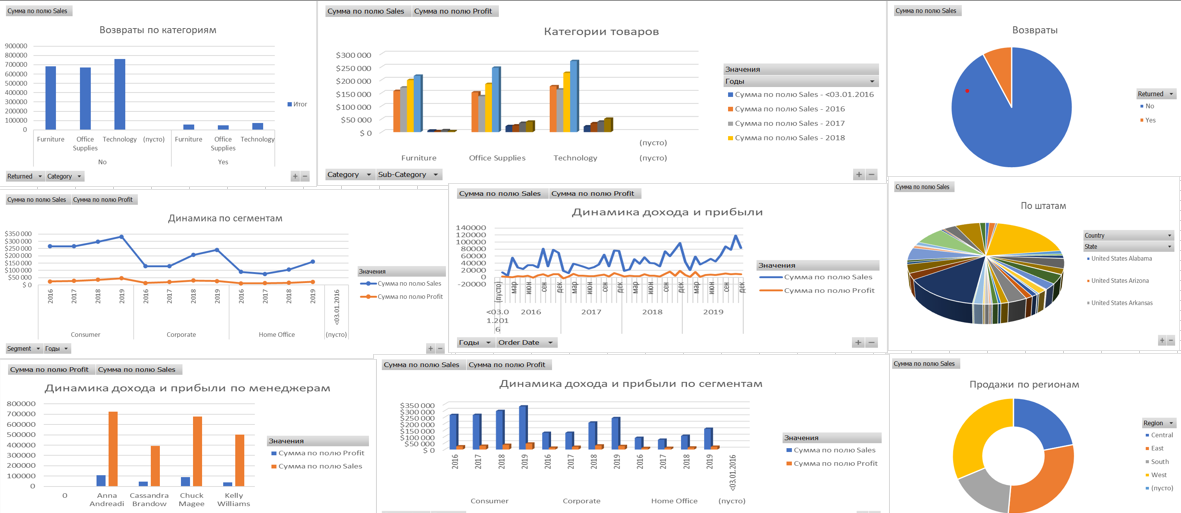

Layout of this report page (visuals, bound fields, positions):
{"tool":"tableau","page":{"name":"Dashboard 1","canvas":[1400,750],"ordinal":0},"visuals":[{"type":"worksheet","title":"Динамика продаж","mark":"Square","rows":["Sub-Category"],"cols":["Order Date"],"box":[8,8,611.9,327]},{"type":"worksheet","title":"Анализ по клиентам","mark":"Circle","rows":["Profit"],"cols":["Sales"],"box":[619.9,8,306,327]},{"type":"worksheet","title":"Анализ по продуктам","mark":"Circle","rows":["Profit"],"cols":["Sales"],"box":[925.9,8,306.1,327]},{"type":"legend","title":"Динамика продаж","param":"[federated.076mbva0qhmc8e1cwjwzp0z5prh7].[sum:Profit:qk]","box":[1232,8,160,65]},{"type":"legend","title":"Динамика дохода и прибыли по менеджерам","param":"[federated.076mbva0qhmc8e1cwjwzp0z5prh7].[:Measure Names]","box":[1232,73,160,66]},{"type":"legend","title":"Анализ по возратам","param":"[federated.076mbva0qhmc8e1cwjwzp0z5prh7].[none:Returned:nk]","box":[1232,139,160,66]},{"type":"filter","title":"Динамика по сегментам","param":"[federated.076mbva0qhmc8e1cwjwzp0z5prh7].[none:Segment:nk]","box":[1232,205,160,52]},{"type":"filter","title":"Динамика дохода и прибыли по менеджерам","param":"[federated.076mbva0qhmc8e1cwjwzp0z5prh7].[none:Person:nk]","box":[1232,257,160,52]},{"type":"filter","title":"Анализ по регионам","param":"[federated.076mbva0qhmc8e1cwjwzp0z5prh7].[none:Region:nk]","box":[1232,309,160,127]},{"type":"worksheet","title":"Анализ по категориям","mark":"Automatic","rows":["Sub-Category"],"cols":["Sales","Profit"],"box":[8,335,772.2,223.5]},{"type":"worksheet","title":"Прибыль по штатам","mark":"Automatic","box":[780.1,335,451.9,223.5]},{"type":"worksheet","title":"Анализ по регионам","mark":"Automatic","rows":["Region"],"cols":["Profit"],"box":[8,558.5,305.9,183.5]},{"type":"worksheet","title":"Динамика дохода и прибыли по менеджерам","mark":"Automatic","cols":["Person"],"box":[313.9,558.5,306,183.5]},{"type":"worksheet","title":"Анализ по возратам","mark":"Automatic","rows":["Sales"],"cols":["Category","Sub-Category"],"box":[619.9,558.5,306,183.5]},{"type":"worksheet","title":"Динамика по сегментам","mark":"Automatic","rows":["Segment"],"cols":["Profit"],"box":[925.9,558.5,306.1,183.5]}]}

Visuals, with their boxes on the page's 1400x750 design canvas (x1, y1, x2, y2). These are canvas units, not pixel positions in the 1181x513 screenshot, which may show the page scaled, cropped or inside an application window:
"Динамика продаж" worksheet (Square marks): {"left": 8, "top": 8, "right": 620, "bottom": 335}
"Анализ по клиентам" worksheet (Circle marks): {"left": 620, "top": 8, "right": 926, "bottom": 335}
"Анализ по продуктам" worksheet (Circle marks): {"left": 926, "top": 8, "right": 1232, "bottom": 335}
"Динамика продаж" legend: {"left": 1232, "top": 8, "right": 1392, "bottom": 73}
"Динамика дохода и прибыли по менеджерам" legend: {"left": 1232, "top": 73, "right": 1392, "bottom": 139}
"Анализ по возратам" legend: {"left": 1232, "top": 139, "right": 1392, "bottom": 205}
"Динамика по сегментам" filter: {"left": 1232, "top": 205, "right": 1392, "bottom": 257}
"Динамика дохода и прибыли по менеджерам" filter: {"left": 1232, "top": 257, "right": 1392, "bottom": 309}
"Анализ по регионам" filter: {"left": 1232, "top": 309, "right": 1392, "bottom": 436}
"Анализ по категориям" worksheet: {"left": 8, "top": 335, "right": 780, "bottom": 558}
"Прибыль по штатам" worksheet: {"left": 780, "top": 335, "right": 1232, "bottom": 558}
"Анализ по регионам" worksheet: {"left": 8, "top": 558, "right": 314, "bottom": 742}
"Динамика дохода и прибыли по менеджерам" worksheet: {"left": 314, "top": 558, "right": 620, "bottom": 742}
"Анализ по возратам" worksheet: {"left": 620, "top": 558, "right": 926, "bottom": 742}
"Динамика по сегментам" worksheet: {"left": 926, "top": 558, "right": 1232, "bottom": 742}
